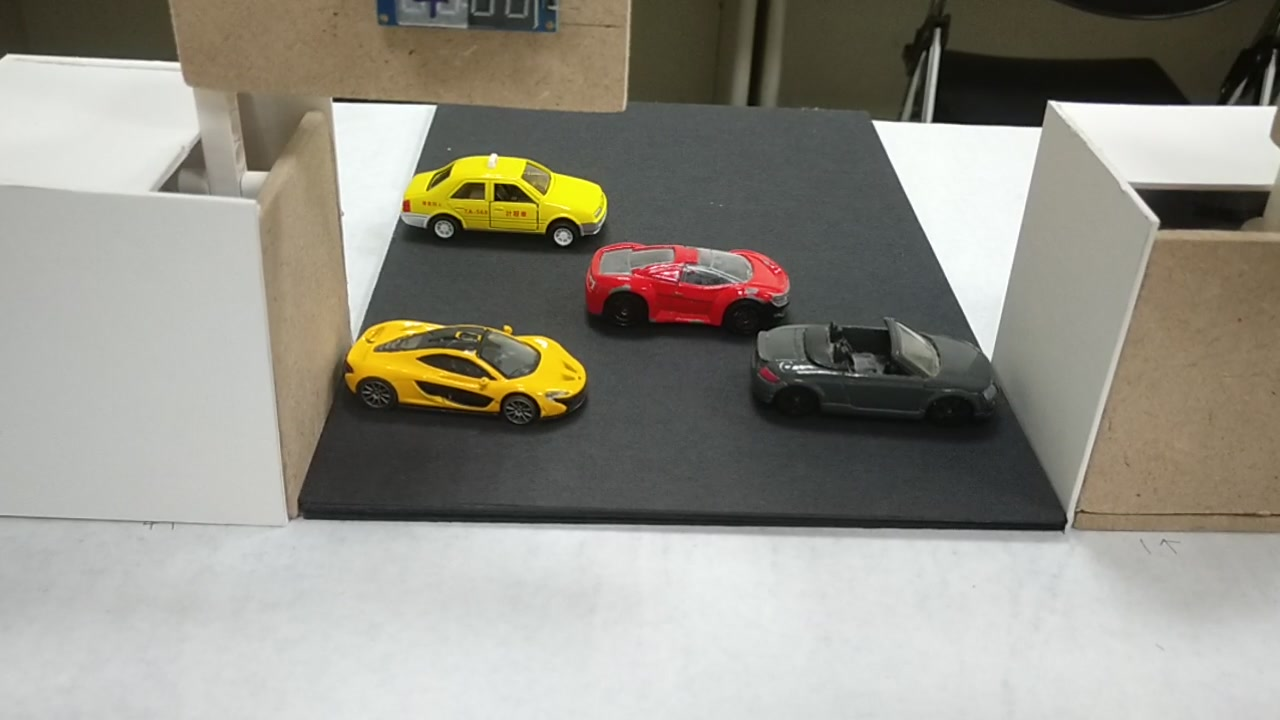car: (345, 317, 585, 419), (758, 322, 998, 424), (585, 240, 790, 336), (404, 161, 605, 244)
